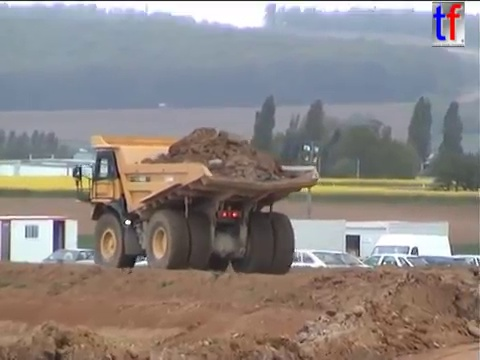truck: (69, 132, 322, 278)
